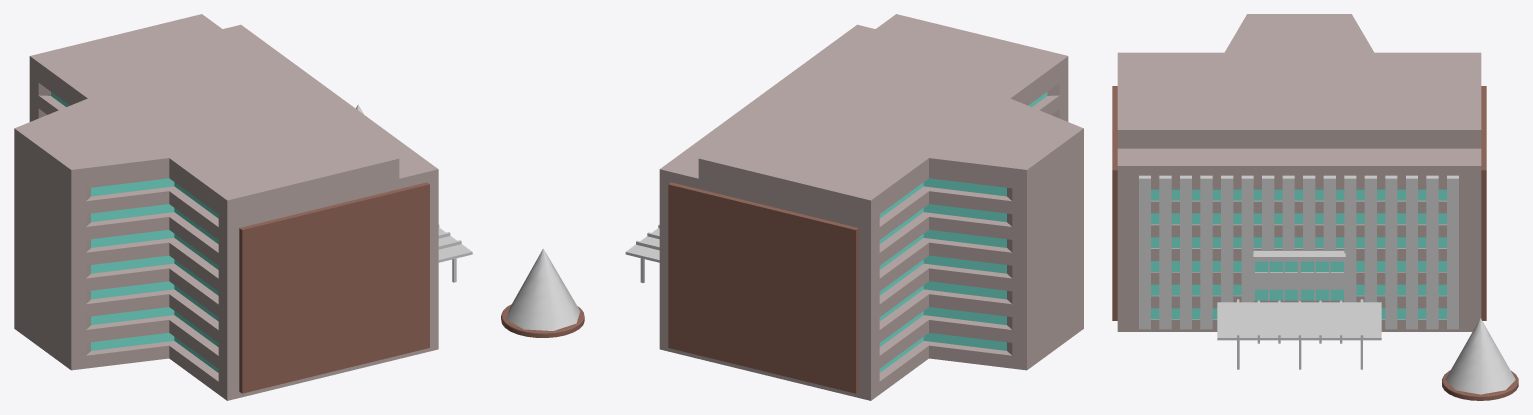
File: university.FBX
The picture shows the model from 3 angles, left to right: view 1: azimuth 30°, elevation 25°; view 2: azimuth 150°, elevation 25°; view 3: azimuth 270°, elevation 25°; orthographic projection. The views are drawn at different scales.
Visible parts, largest first — view 1: Boîte001, Boîte037, Boîte018; view 2: Boîte001, Boîte036, Cône001, Cylindre001, Boîte018; view 3: Boîte001, Boîte018, Boîte035, Cône001, Boîte003, Boîte005, Boîte016, Boîte014, Boîte002, Boîte004, Boîte015, Boîte017 (+11 smaller).
Part boxes in pixels (x1,y1,x2,y2): Boîte001: [14, 14, 438, 400]; Boîte037: [239, 182, 429, 393]; Boîte018: [438, 227, 472, 262]; Boîte001: [659, 14, 1083, 400]; Boîte036: [668, 182, 858, 393]; Cône001: [506, 248, 580, 330]; Cylindre001: [501, 304, 584, 337]; Boîte018: [625, 228, 659, 262]; Boîte001: [1117, 14, 1481, 331]; Boîte018: [1217, 302, 1381, 340]; Boîte035: [1253, 250, 1345, 301]; Cône001: [1445, 318, 1515, 394]; Boîte003: [1159, 175, 1171, 329]; Boîte005: [1200, 175, 1212, 329]; Boîte016: [1426, 175, 1438, 329]; Boîte014: [1385, 175, 1397, 329]; Boîte002: [1139, 175, 1150, 329]; Boîte004: [1180, 175, 1191, 329]; Boîte015: [1406, 175, 1417, 329]; Boîte017: [1447, 175, 1458, 329].
Bounding box in the file's own units: 158 × 67.39 × 134.
